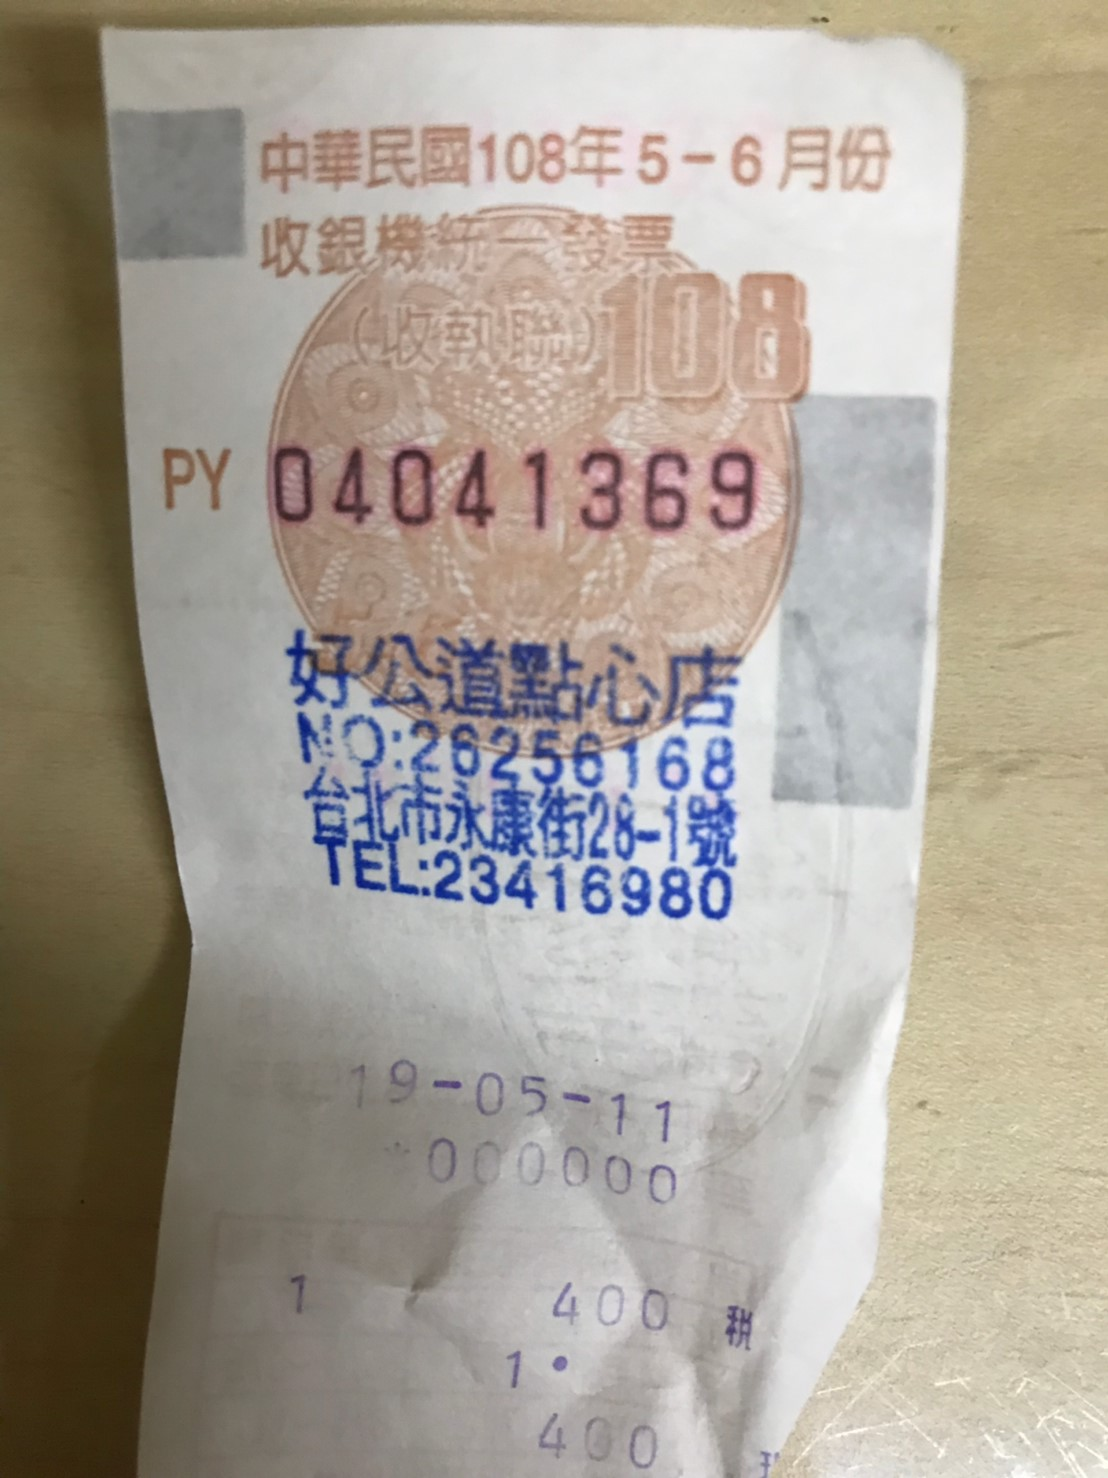Date_Old: (475, 120, 893, 196)
Number_Old: (265, 439, 759, 539)
